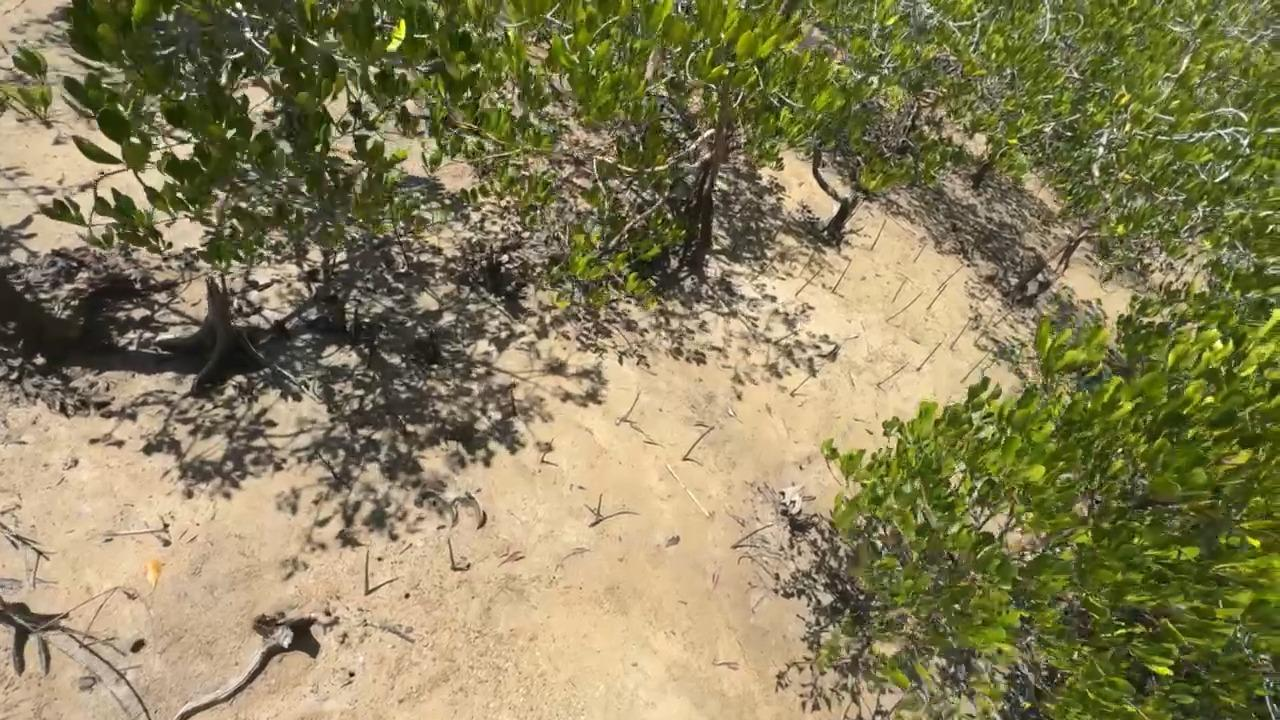Tree: (960, 346, 995, 384), (885, 291, 924, 324), (729, 523, 777, 548), (682, 425, 714, 460), (875, 362, 912, 386), (916, 341, 944, 371), (795, 267, 823, 297), (621, 388, 644, 421), (936, 264, 963, 292), (831, 259, 852, 293), (949, 319, 972, 349), (772, 208, 792, 241), (925, 284, 948, 310), (789, 373, 813, 396), (890, 276, 909, 304), (870, 219, 887, 250), (993, 307, 1016, 328), (540, 437, 555, 462), (983, 278, 998, 302), (913, 242, 928, 263), (507, 387, 518, 415), (364, 550, 370, 595), (447, 537, 455, 570), (597, 493, 604, 515)
